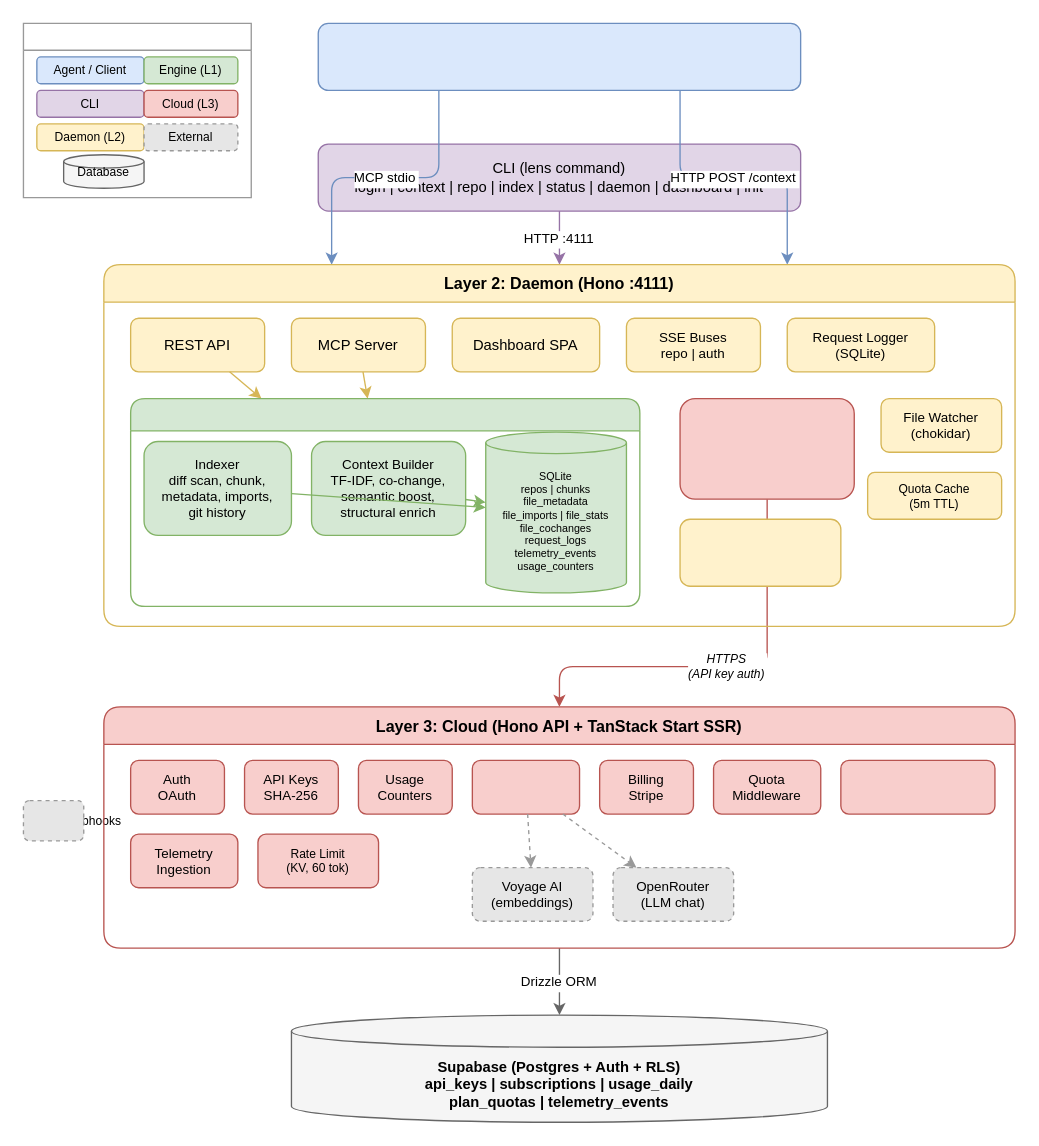
The diagram is 1039 pixels wide and 1146 high, and some of its shapes have lost their labels. Here are the shapes that lost their labels. From the top down, the box of each, then its label:
(317, 22, 801, 90): AI Agent (Claude Code, Cursor, etc.)
(22, 22, 251, 198): Color Legend
(679, 397, 854, 499): Cloud Proxy (authenticated) embed | chat usage | telemetry
(129, 397, 640, 606): Layer 1: Engine (SQLite + Drizzle)
(679, 518, 841, 586): Timers quota 5m | telem 60s log prune 1h
(471, 759, 580, 814): Proxy embed | chat
(840, 759, 995, 814): Admin Panel (TanStack Start SSR)
(22, 799, 84, 841): Stripe
